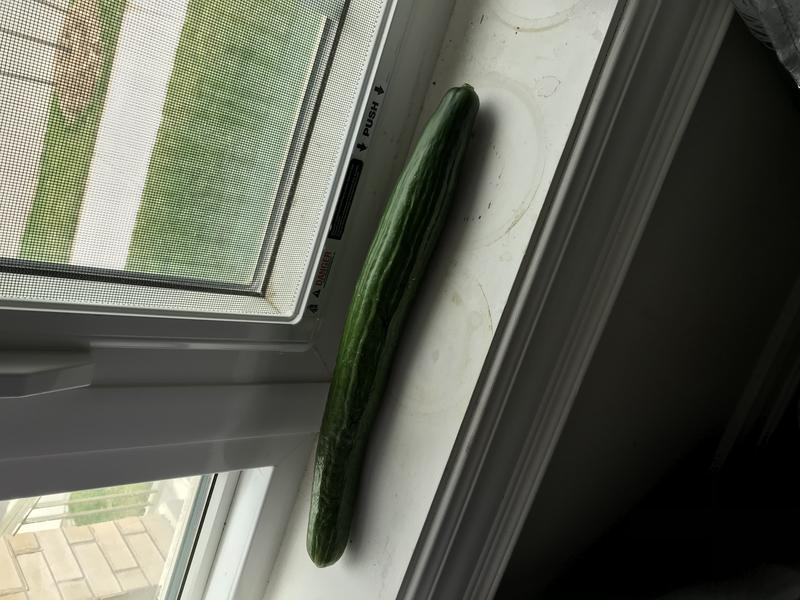cucumber: (295, 73, 503, 585)
